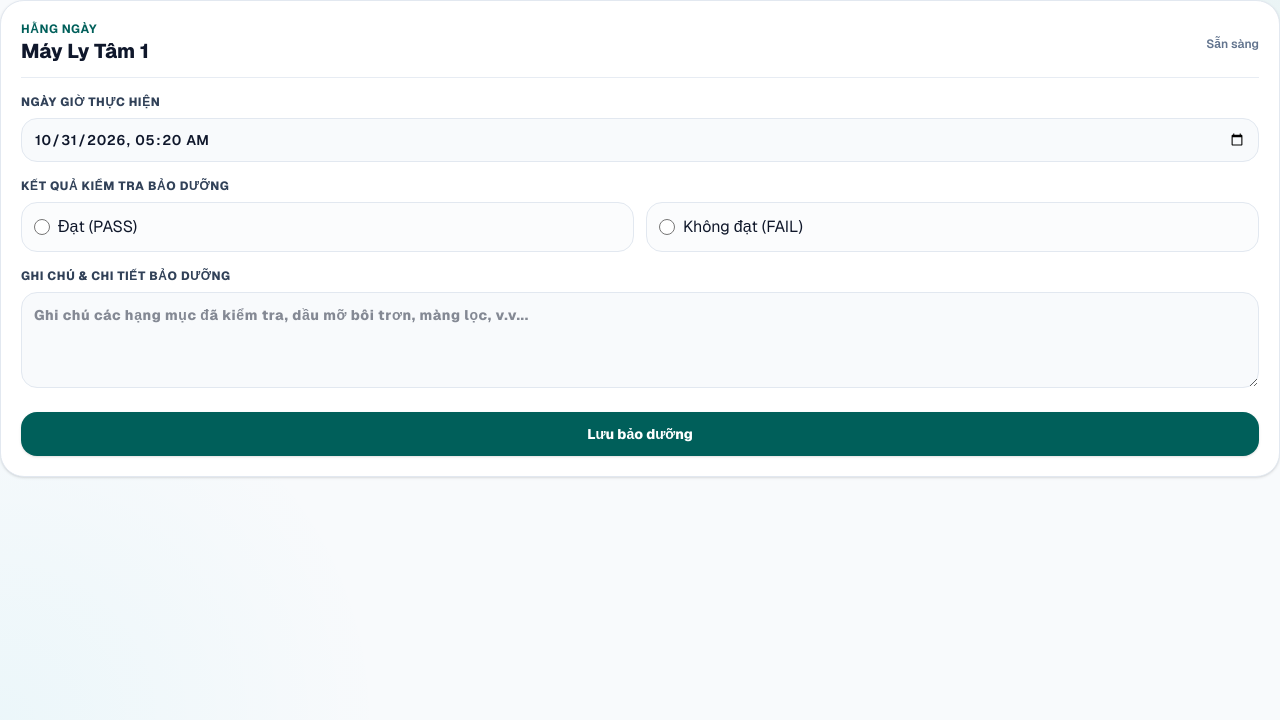
Scenario: Task 4: Maintenance BM.02 Save Reliability and Input Retention › updates status to dirty when user changes result or note
What coordinates should you click on to do the following:
click the radio button labelled "Đạt (PASS)"
I would click on:
 (42, 227)
Its box is [34,219,50,235].
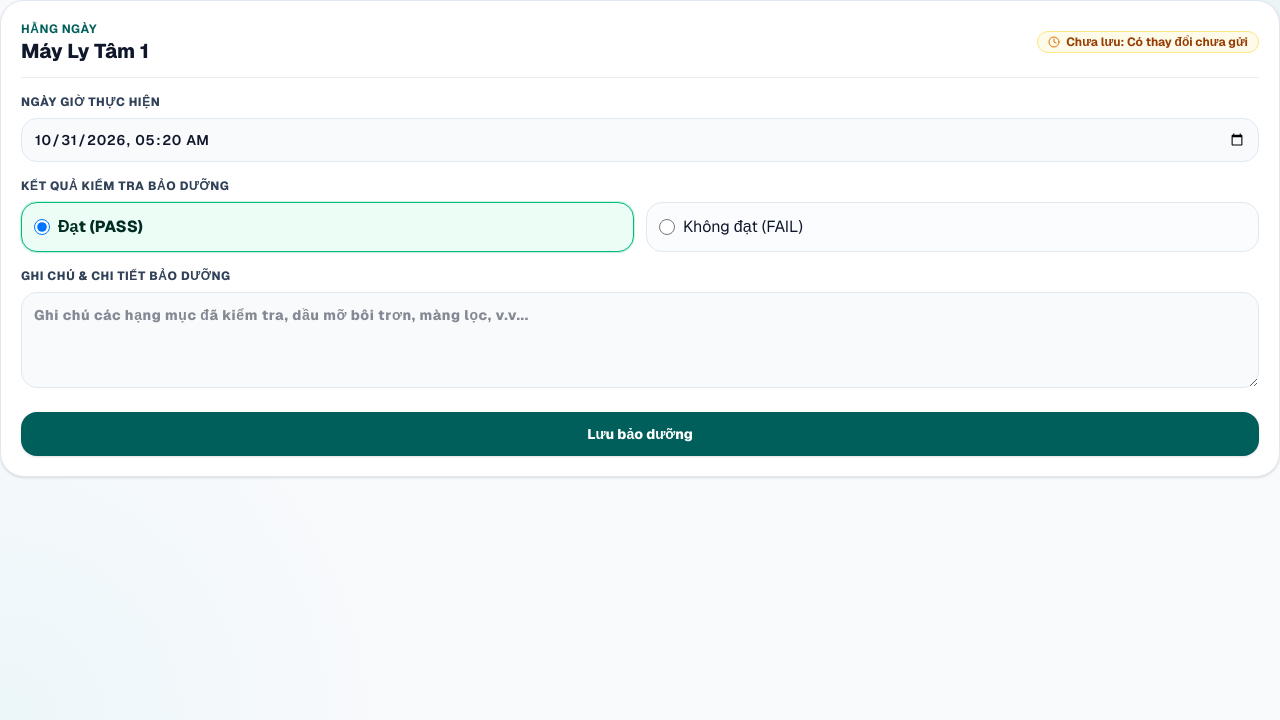
Expected: the text "Chưa lưu: Có thay đổi chưa gửi" is shown, [1037,31,1259,53]
